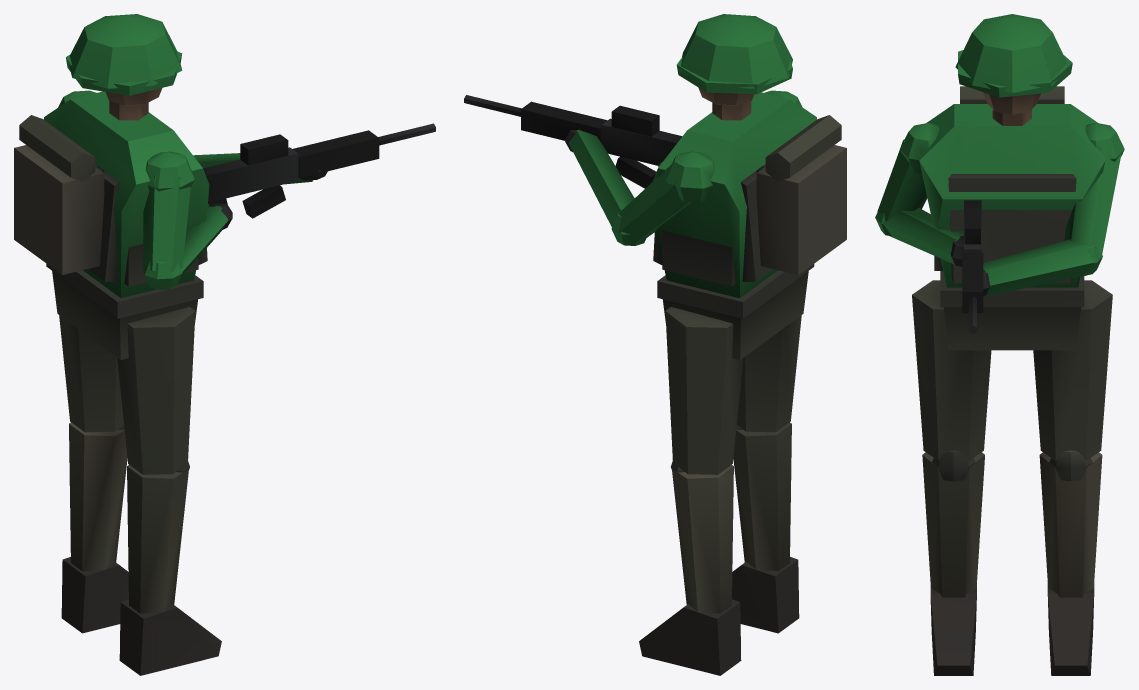
Rendered from u_rifle_lod1.glb.
3 views of the same model, side by side, from view 1: azimuth 30°, elevation 25°; view 2: azimuth 150°, elevation 25°; view 3: azimuth 270°, elevation 25° (orthographic).
Visible parts, largest first — view 1: Rifle_LOD1_Walls, Rifle_LOD1_shL, Rifle_LOD1_shR, Rifle_LOD1_thL, Rifle_LOD1_Details, Rifle_LOD1_thR; view 2: Rifle_LOD1_Walls, Rifle_LOD1_shR, Rifle_LOD1_shL, Rifle_LOD1_thR, Rifle_LOD1_Details, Rifle_LOD1_thL; view 3: Rifle_LOD1_Walls, Rifle_LOD1_shR, Rifle_LOD1_shL, Rifle_LOD1_thL, Rifle_LOD1_thR, Rifle_LOD1_Details.
Part boxes in pixels (box(x1,y1,x2,y2)): Rifle_LOD1_Walls: box(14, 14, 435, 359); Rifle_LOD1_shL: box(119, 461, 221, 675); Rifle_LOD1_shR: box(61, 422, 128, 633); Rifle_LOD1_thL: box(117, 307, 195, 474); Rifle_LOD1_Details: box(19, 115, 203, 318); Rifle_LOD1_thR: box(59, 315, 123, 432); Rifle_LOD1_Walls: box(464, 14, 846, 359); Rifle_LOD1_shR: box(639, 461, 741, 675); Rifle_LOD1_shL: box(732, 422, 799, 633); Rifle_LOD1_thR: box(665, 307, 743, 474); Rifle_LOD1_Details: box(657, 115, 841, 318); Rifle_LOD1_thL: box(737, 315, 801, 432); Rifle_LOD1_Walls: box(875, 14, 1124, 350); Rifle_LOD1_shR: box(1039, 450, 1102, 675); Rifle_LOD1_shL: box(922, 450, 984, 675); Rifle_LOD1_thL: box(912, 280, 991, 460); Rifle_LOD1_thR: box(1033, 280, 1112, 460); Rifle_LOD1_Details: box(940, 86, 1084, 307).
Bounding box in the file's own units: 0.377 × 0.5985 × 0.2147.
